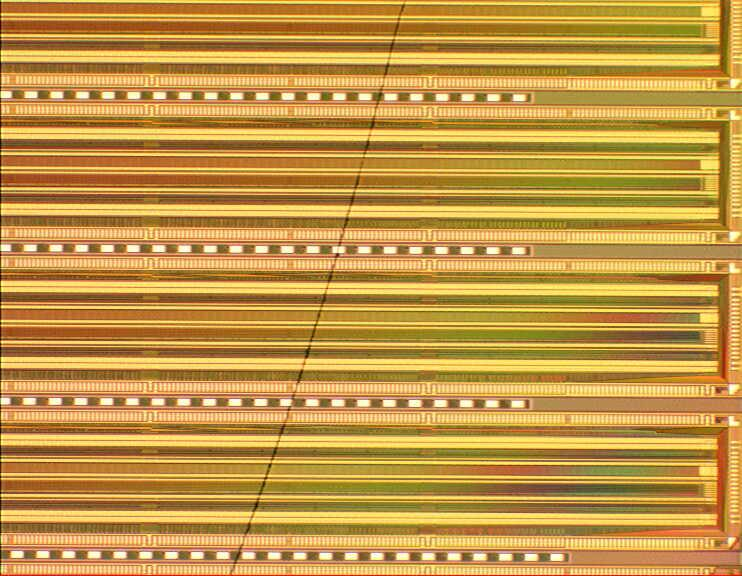SCRATCH: (221, 1, 417, 576)
